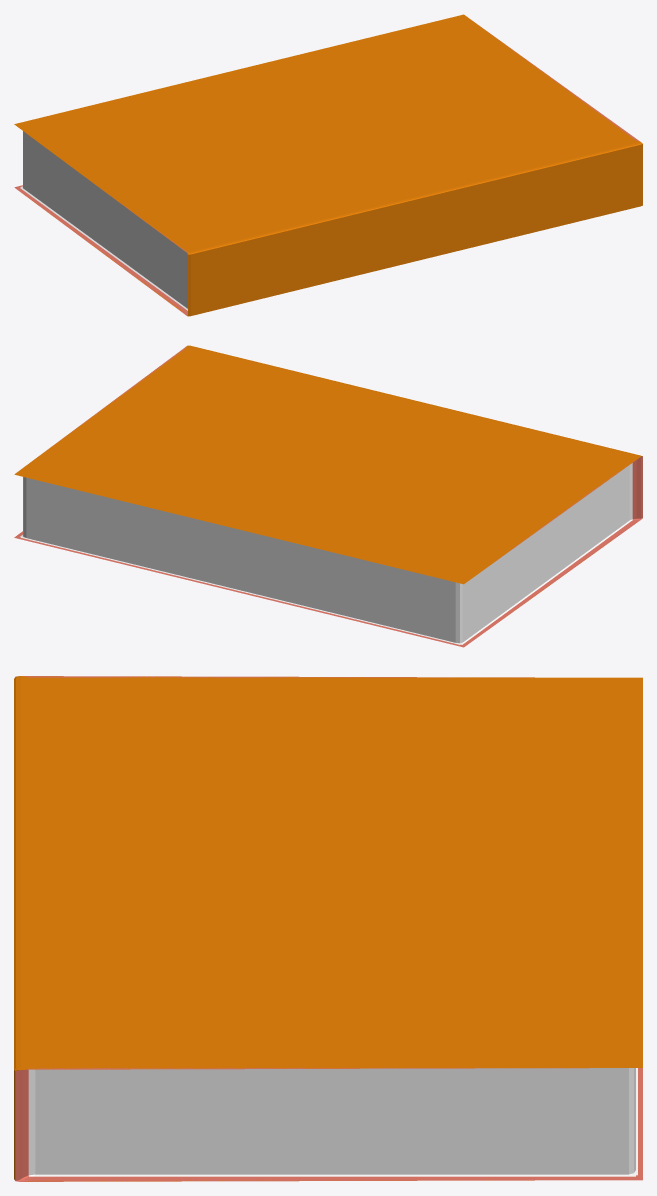
File: LibroConColor.fbx
The picture shows the model from 3 angles, top to bottom: view 1: azimuth 30°, elevation 25°; view 2: azimuth 150°, elevation 25°; view 3: azimuth 270°, elevation 25°; orthographic projection. The views are drawn at different scales.
Visible parts, largest first — view 1: Cube; view 2: Cube; view 3: Cube.
Boxes of the visible parts, <box> form: Cube: <box>14,14,642,316</box>; Cube: <box>14,345,642,647</box>; Cube: <box>14,676,642,1181</box>.
Size of the model in its own units: 250 by 33.15 by 168.
